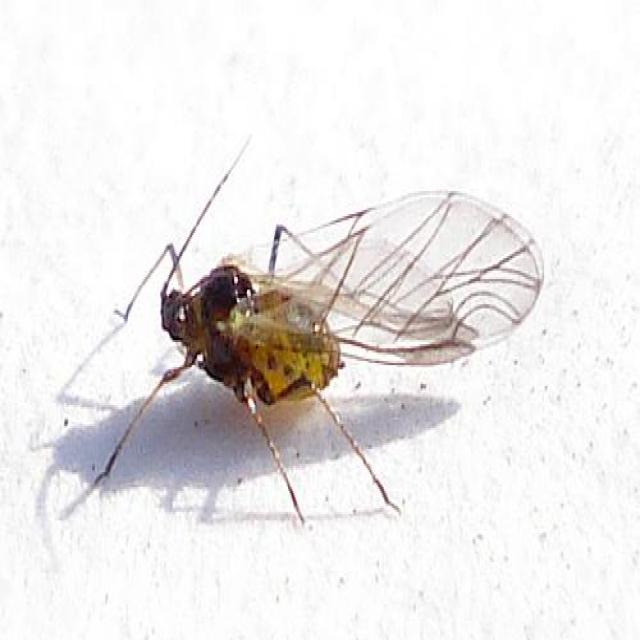Aphids: (124, 203, 473, 503)
